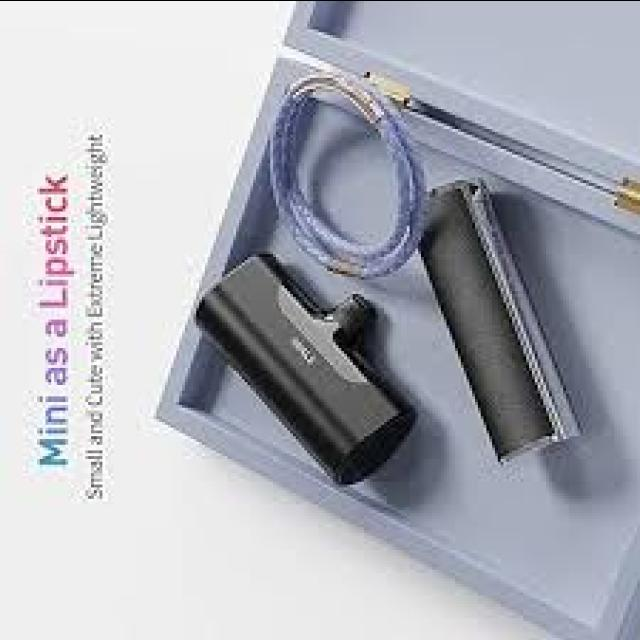portable-charger: (196, 248, 419, 490), (408, 176, 582, 464)
